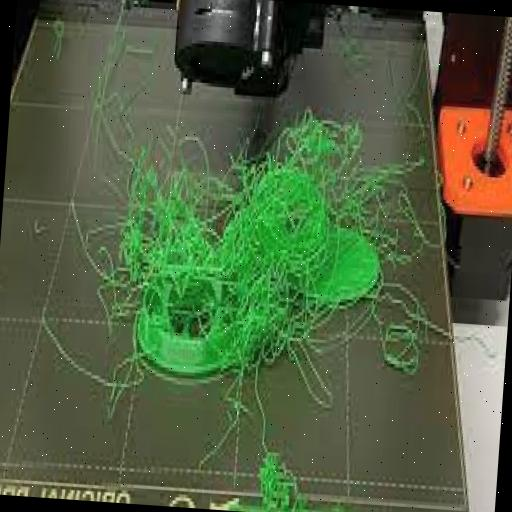spaghetti: (62, 62, 442, 440)
